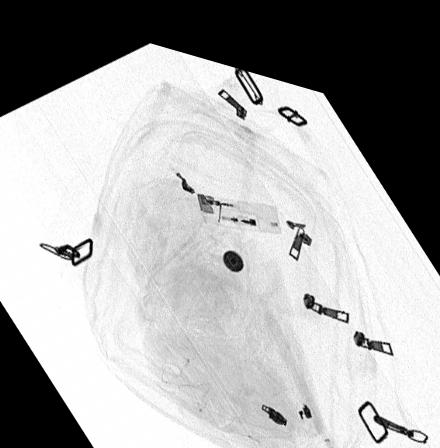Lighter: (196, 182, 280, 217)
